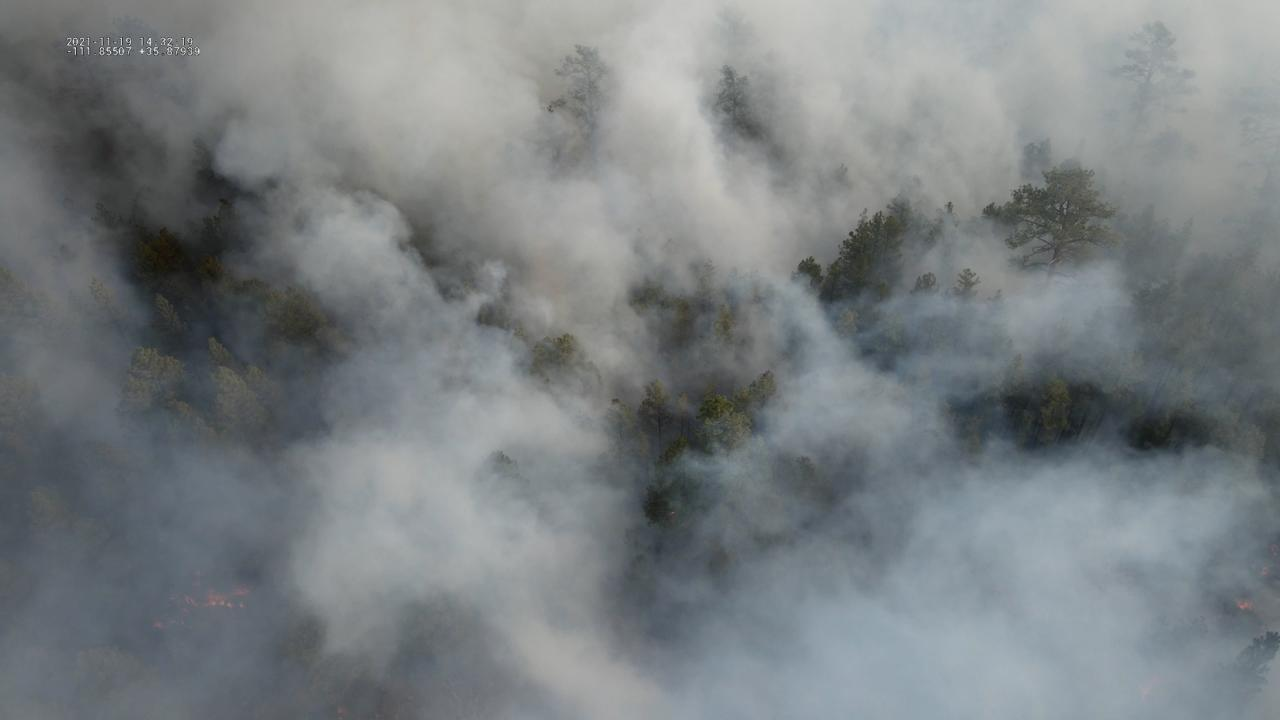fire: (151, 568, 254, 632), (1232, 596, 1256, 611), (334, 703, 348, 720)
smoke: (0, 0, 1280, 720)
